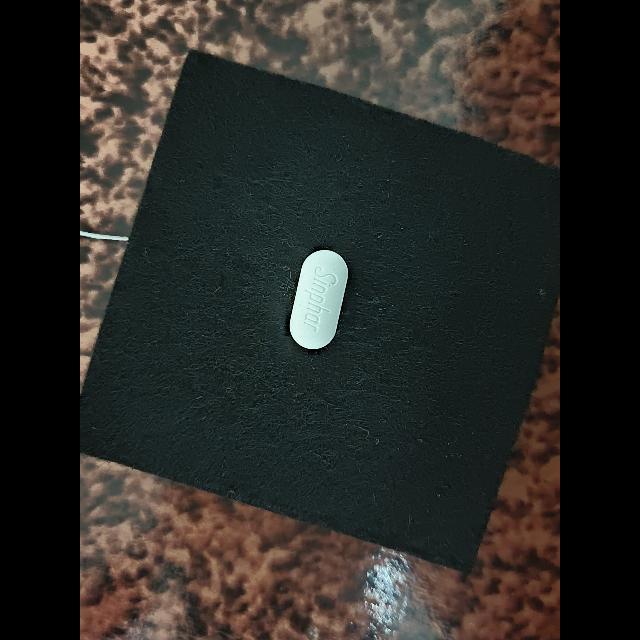Intact Pill: (289, 249, 349, 349)
